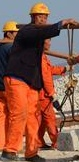boots: (0, 151, 18, 160), (24, 153, 44, 161)
gloves: (67, 55, 77, 64), (0, 57, 6, 70)
hard-hat: (2, 21, 19, 30)
ppe-suit: (0, 37, 28, 157)
